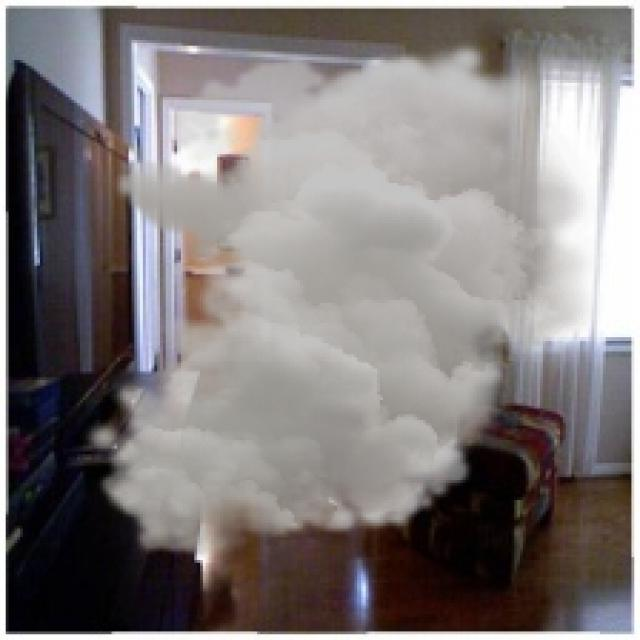smoke: (80, 40, 609, 560)
